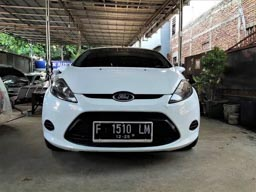plat: (93, 121, 152, 134)
